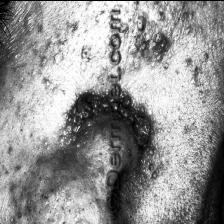Unclassified: (132, 0, 176, 56), (71, 72, 107, 138), (126, 90, 156, 148)
